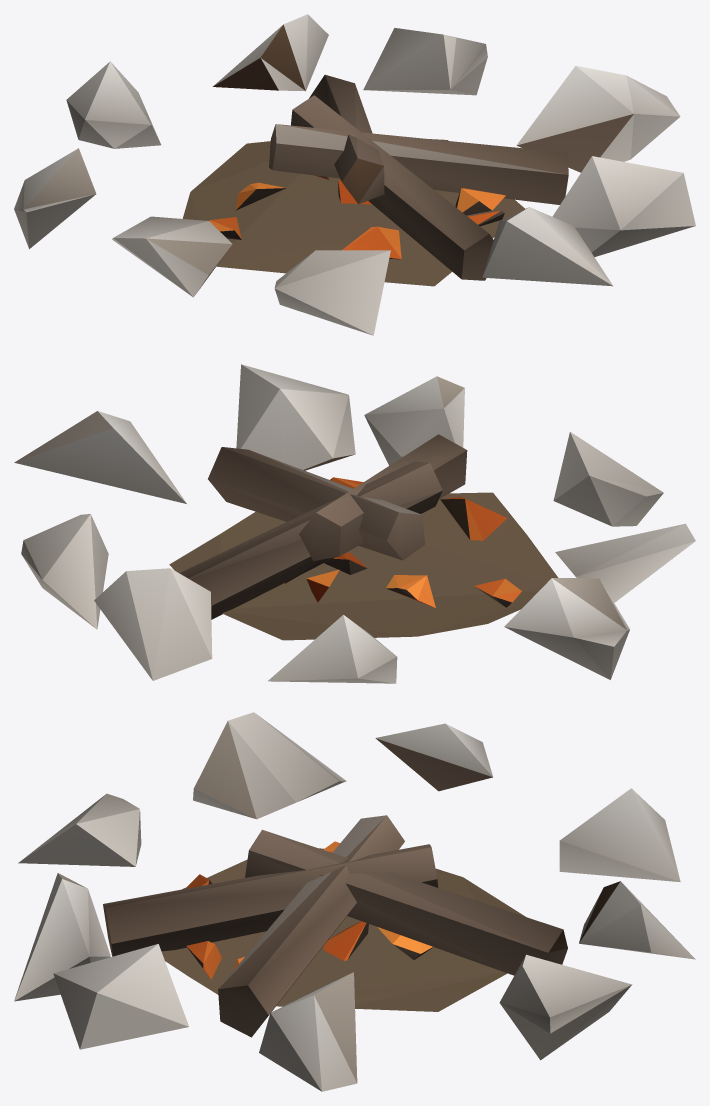
File: abyss_firepit.glb
3 renders of one model, top to bottom at view 1: azimuth 30°, elevation 25°; view 2: azimuth 150°, elevation 25°; view 3: azimuth 270°, elevation 25°, orthographic. The views are drawn at different scales.
Parts seen in each view (by area): view 1: ca_abyss_firepit; view 2: ca_abyss_firepit; view 3: ca_abyss_firepit.
Part boxes in pixels (x1=…): ca_abyss_firepit: x1=14, y1=14, x2=695, y2=335; ca_abyss_firepit: x1=14, y1=364, x2=695, y2=683; ca_abyss_firepit: x1=14, y1=712, x2=695, y2=1091.
Size of the model in its own units: 0.5603 by 0.0778 by 0.4821.
Materials: 1 (1 with a texture image).
